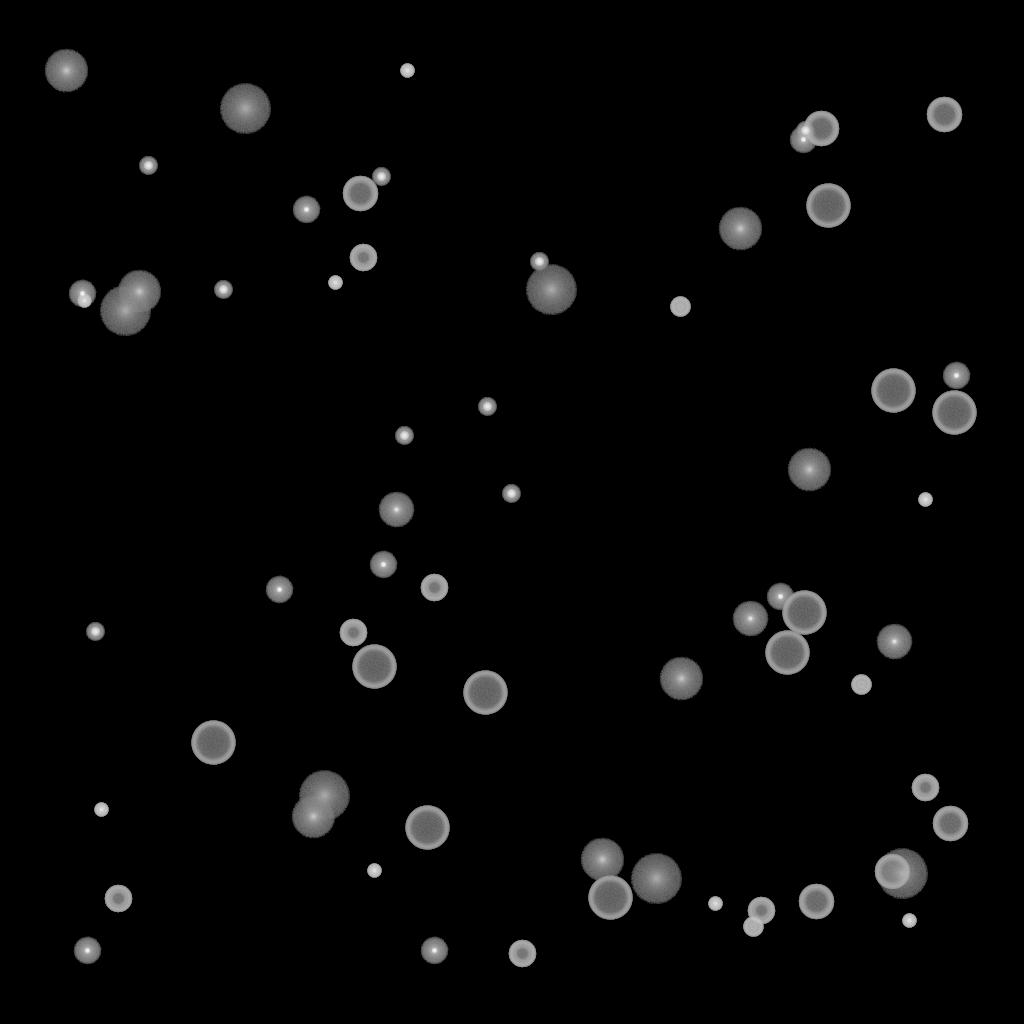depth:-10: (73, 937, 101, 965), (369, 551, 397, 579), (766, 583, 794, 611), (292, 196, 320, 224), (420, 937, 448, 965), (942, 362, 970, 390), (68, 280, 96, 308), (789, 126, 817, 154), (265, 576, 293, 604)
depth:-20: (139, 157, 157, 175), (478, 398, 496, 416), (530, 253, 548, 271), (86, 623, 104, 641), (214, 281, 232, 299), (395, 427, 413, 445), (502, 485, 520, 503), (796, 122, 814, 140), (372, 168, 390, 186)
depth:-30: (367, 864, 381, 878), (902, 914, 916, 928), (77, 294, 91, 308), (94, 803, 108, 817), (918, 493, 932, 507), (328, 276, 342, 290), (400, 64, 414, 78), (708, 897, 722, 911)
depth:-40: (851, 675, 871, 695), (743, 917, 763, 937), (670, 297, 690, 317)
depth:-50: (911, 774, 939, 802), (747, 897, 775, 925), (349, 244, 377, 272), (339, 619, 367, 647), (104, 885, 132, 913), (508, 940, 536, 968), (420, 574, 448, 602)
depth:-60: (932, 806, 968, 842), (803, 111, 839, 147), (342, 176, 378, 212), (798, 884, 834, 920), (874, 854, 910, 890), (926, 97, 962, 133)
depth:-70: (191, 721, 235, 765), (588, 876, 632, 920), (806, 184, 850, 228), (352, 645, 396, 689), (871, 369, 915, 413), (932, 391, 976, 435), (463, 671, 507, 715), (765, 631, 809, 675), (782, 591, 826, 635), (405, 806, 449, 850)
depth:0: (378, 492, 414, 528), (732, 601, 768, 637), (876, 624, 912, 660)
depth:10: (659, 657, 703, 701), (580, 838, 624, 882), (787, 448, 831, 492), (291, 795, 335, 839), (718, 207, 762, 251), (44, 49, 88, 93), (117, 270, 161, 314)
depth:20: (876, 849, 928, 899), (630, 854, 682, 904), (219, 84, 271, 134), (99, 286, 151, 336), (298, 771, 350, 821), (525, 265, 577, 315)
